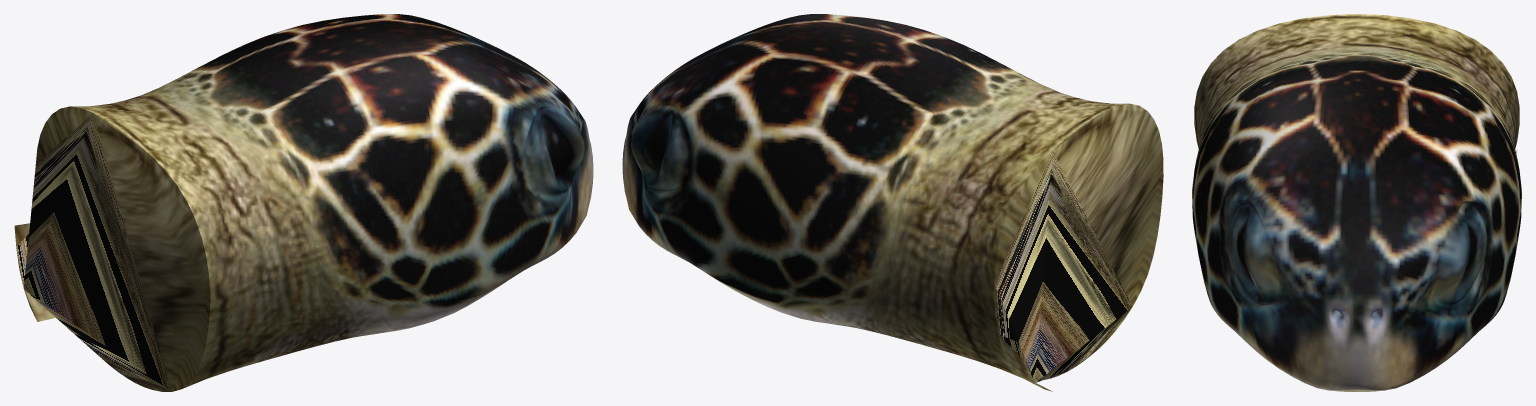
The model's file is cabezaTortuga.obj.
3 views of the same model, side by side, from view 1: azimuth 30°, elevation 25°; view 2: azimuth 150°, elevation 25°; view 3: azimuth 270°, elevation 25° (orthographic). The views are drawn at different scales.
Visible parts, largest first — view 1: cabezaTortu; view 2: cabezaTortu; view 3: cabezaTortu.
Boxes of the visible parts, x1=… form: cabezaTortu: x1=14, y1=14, x2=593, y2=391; cabezaTortu: x1=622, y1=14, x2=1163, y2=391; cabezaTortu: x1=1192, y1=14, x2=1521, y2=391.
Size of the model in its own units: 4.99 by 2.62 by 3.07.
